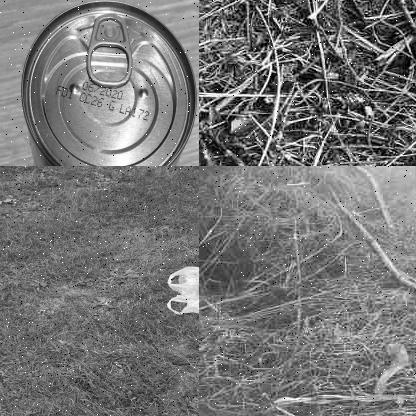metal: (20, 0, 198, 165)
plastic: (155, 259, 198, 319), (378, 340, 412, 398)
